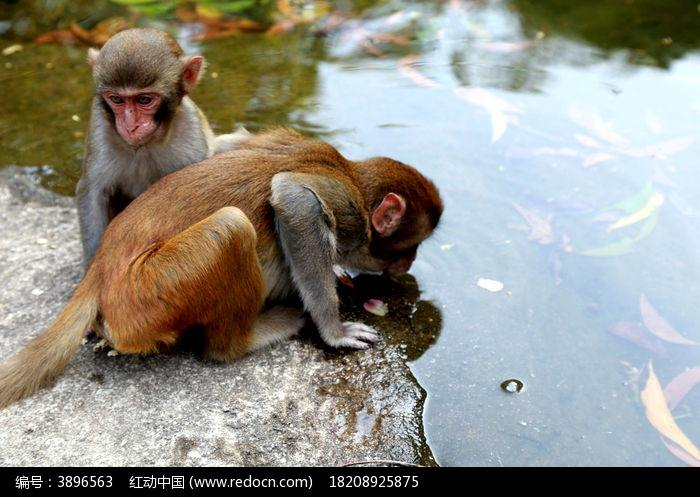monkey: (41, 126, 449, 355), (64, 20, 206, 182)
